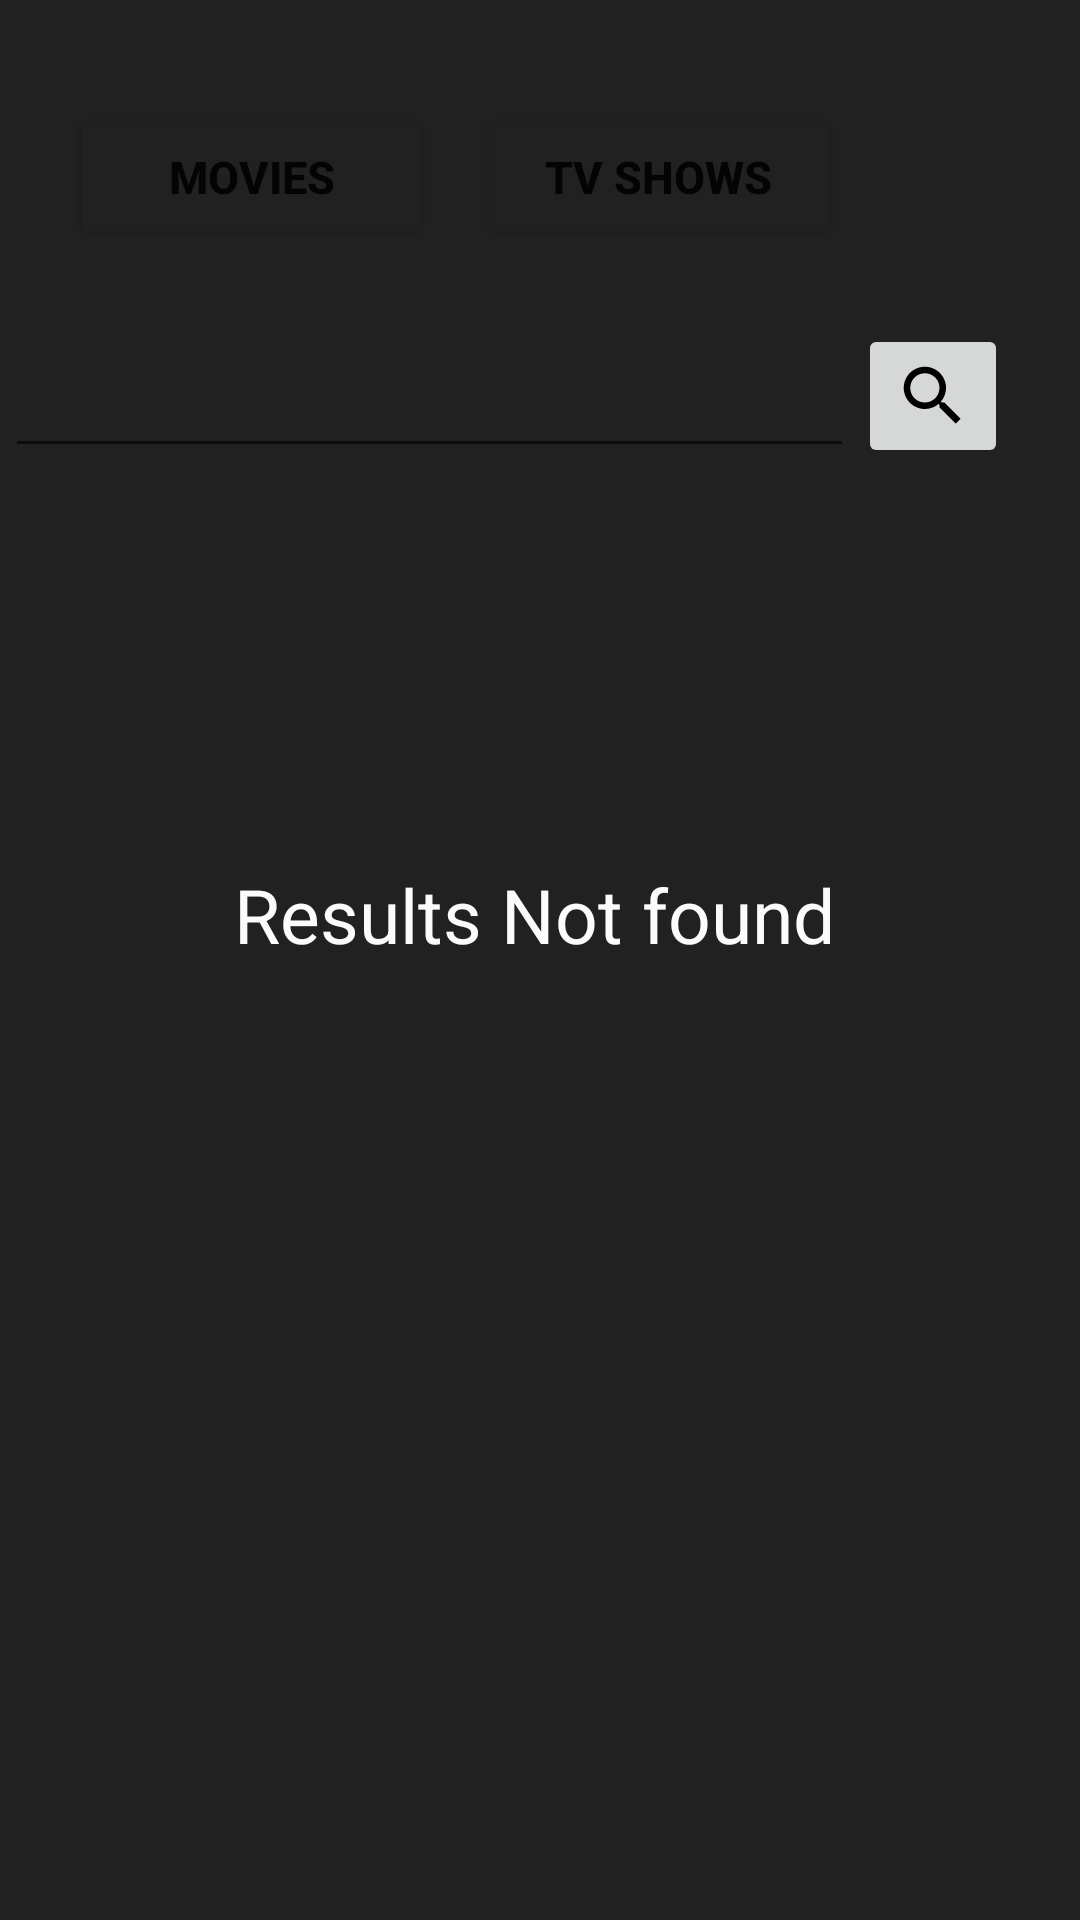

Icon click points for this 1080x1920 phone screenshot, format (x=x, y=y):
search: (x=933, y=396)
